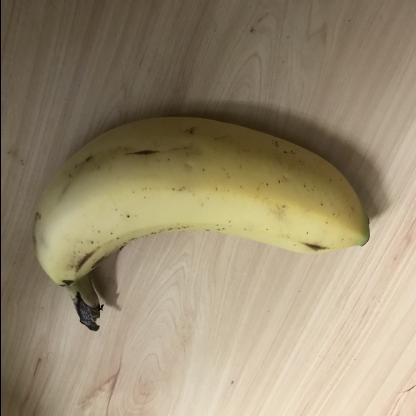banana: (36, 111, 376, 335)
